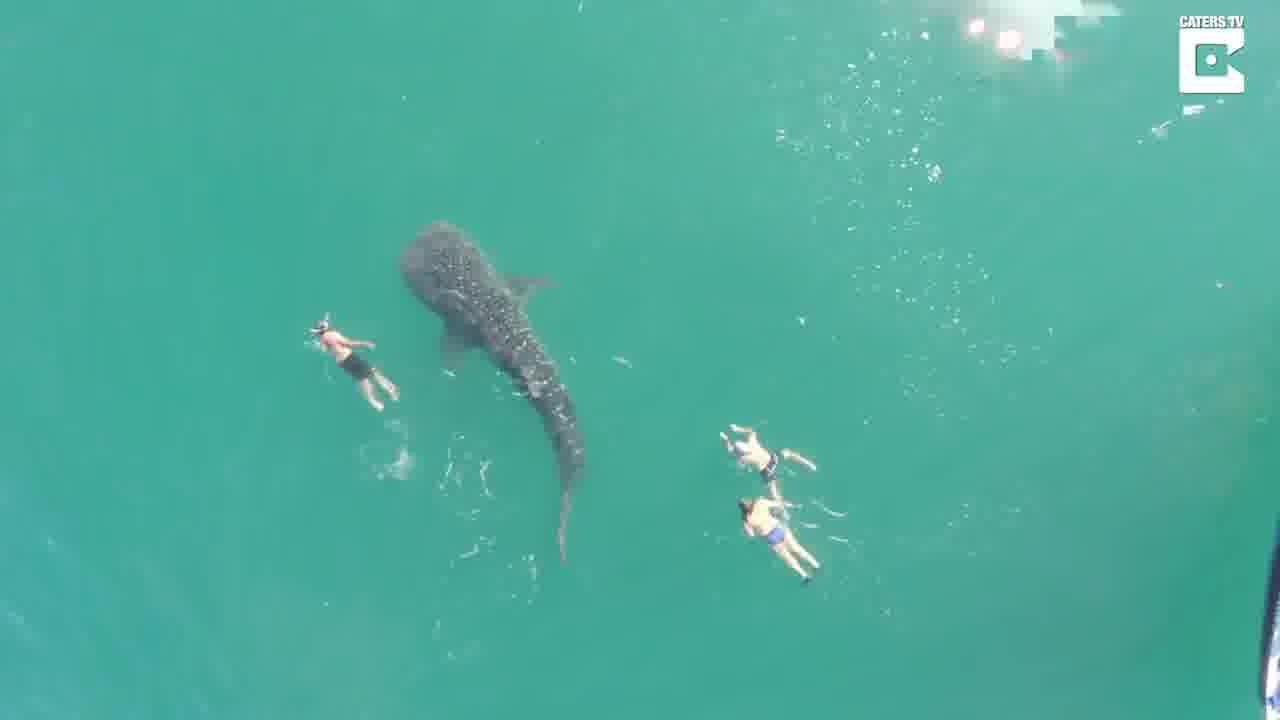human: (299, 315, 409, 416), (734, 494, 826, 588), (711, 423, 813, 497)
